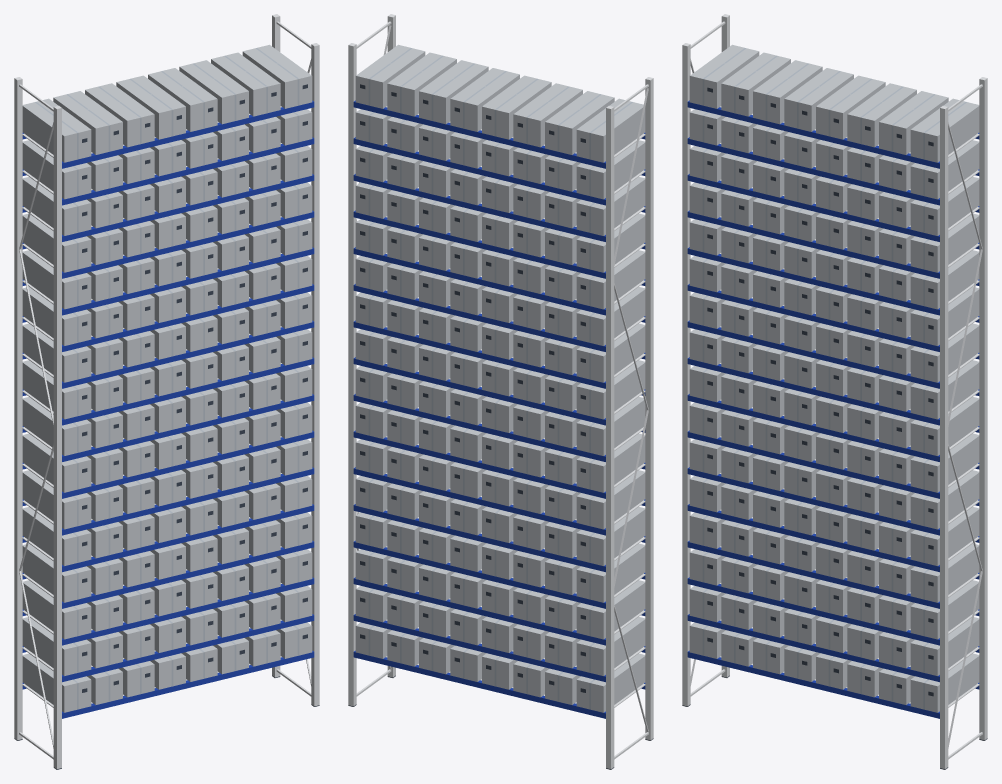
File: SM_MPR_CADRack_F16_W144_Standard_LOD1.fbx
3 views of the same model, side by side, from view 1: azimuth 30°, elevation 25°; view 2: azimuth 150°, elevation 25°; view 3: azimuth 330°, elevation 25° (orthographic).
Parts seen in each view (by area): view 1: SM_MPR_CADRack_F16_W144_Standard_LOD1; view 2: SM_MPR_CADRack_F16_W144_Standard_LOD1; view 3: SM_MPR_CADRack_F16_W144_Standard_LOD1.
Part boxes in pixels (<box>): SM_MPR_CADRack_F16_W144_Standard_LOD1: <box>14,14,319,769</box>; SM_MPR_CADRack_F16_W144_Standard_LOD1: <box>348,14,653,769</box>; SM_MPR_CADRack_F16_W144_Standard_LOD1: <box>682,14,987,769</box>.
Size of the model in its own units: 381 by 107 by 915.
